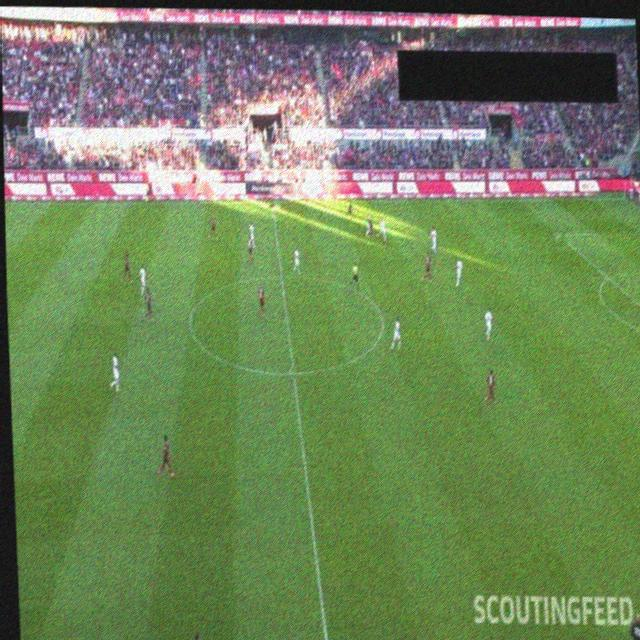bigarea_top_inner: (553, 227, 564, 240)
corner: (617, 193, 629, 206)
halfcircle_bottom: (285, 366, 297, 377)
halfcircle_top: (275, 269, 286, 281)
midline_top_intersection: (265, 196, 279, 208)
top_arc_area_intersection: (600, 270, 615, 285)
